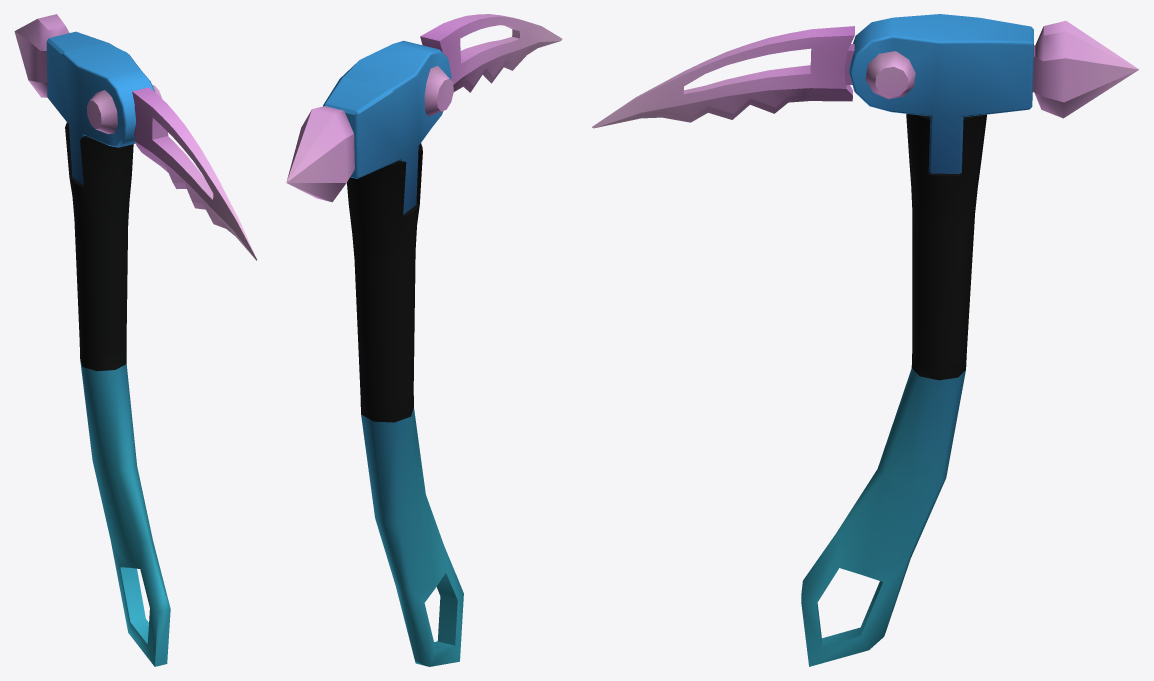
File: ColdArms_IcePick_Blue.gltf
3 renders of one model, left to right at view 1: azimuth 30°, elevation 25°; view 2: azimuth 150°, elevation 25°; view 3: azimuth 270°, elevation 25°, orthographic. The views are drawn at different scales.
Visible parts, largest first — view 1: ColdArms_IcePick_Blue; view 2: ColdArms_IcePick_Blue; view 3: ColdArms_IcePick_Blue.
Boxes of the visible parts, <box> form: ColdArms_IcePick_Blue: <box>14,14,256,666</box>; ColdArms_IcePick_Blue: <box>286,14,562,666</box>; ColdArms_IcePick_Blue: <box>592,14,1138,666</box>.
Size of the model in its own units: 0.1133 by 0.9973 by 0.7769.
Materials: 2 (2 with a texture image).
